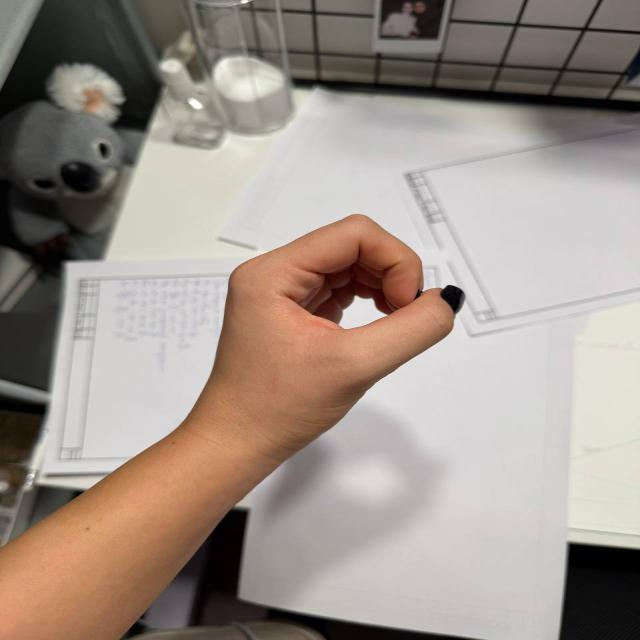e: (207, 207, 489, 490)
